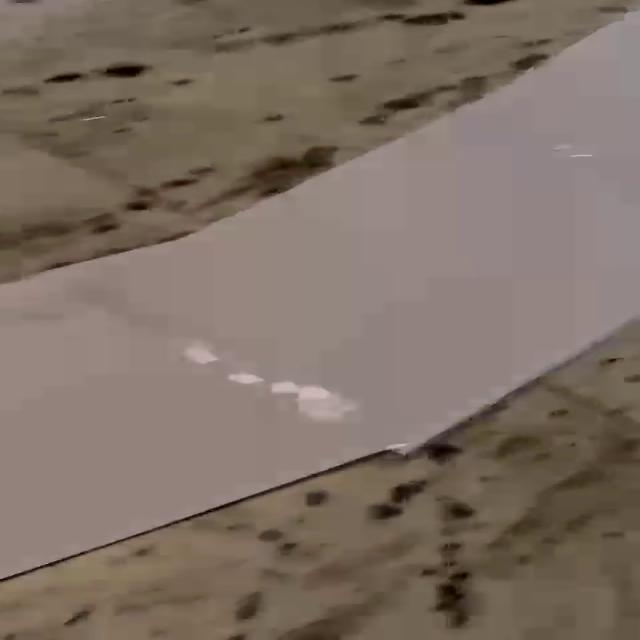road: (1, 13, 639, 577)
